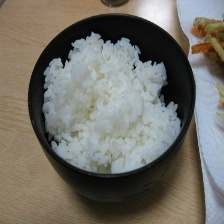rice: (35, 27, 186, 178)
